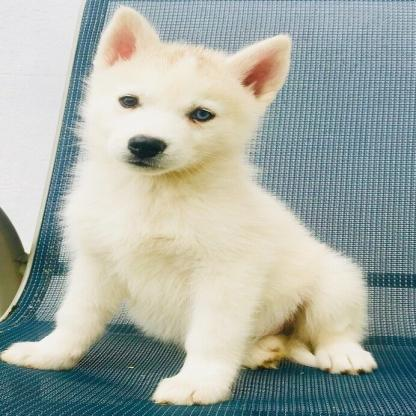husky: (5, 7, 376, 407)
